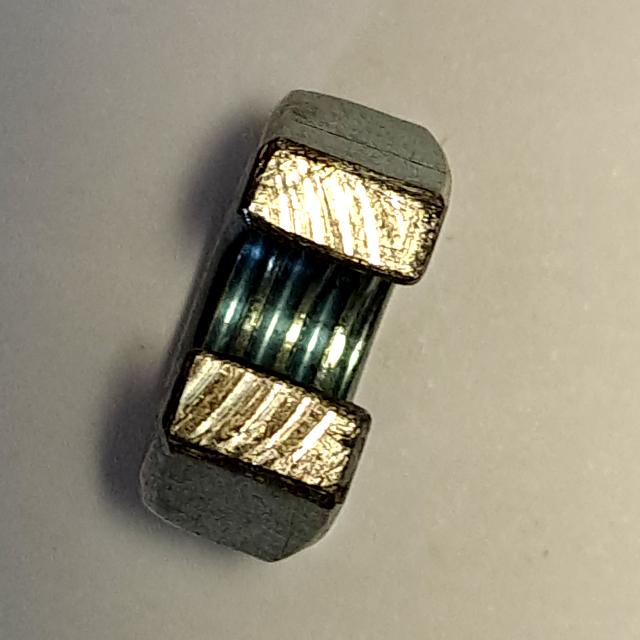Side-Fracture: (122, 72, 462, 578)
